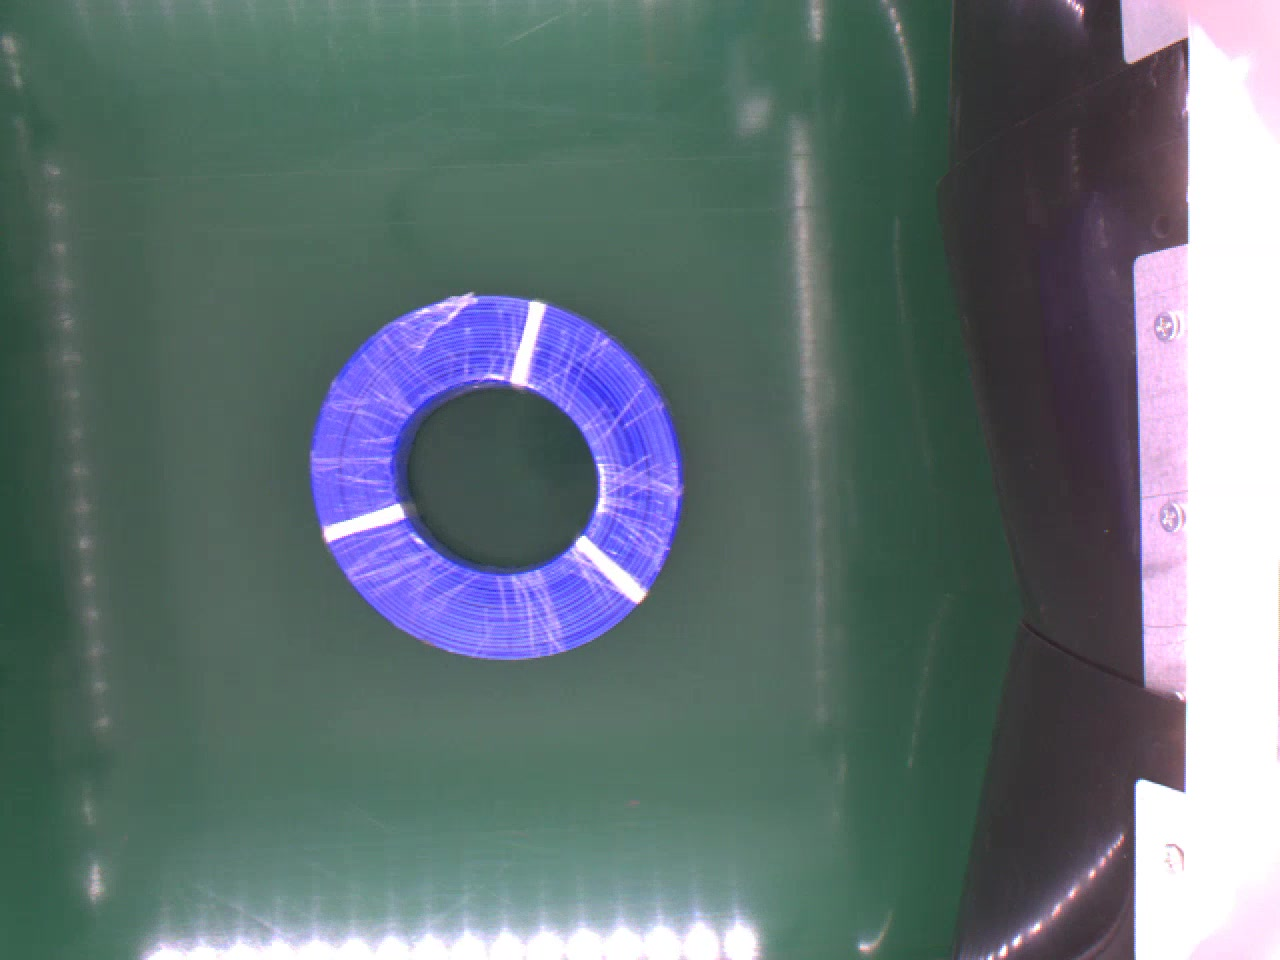blue: (307, 289, 686, 666)
